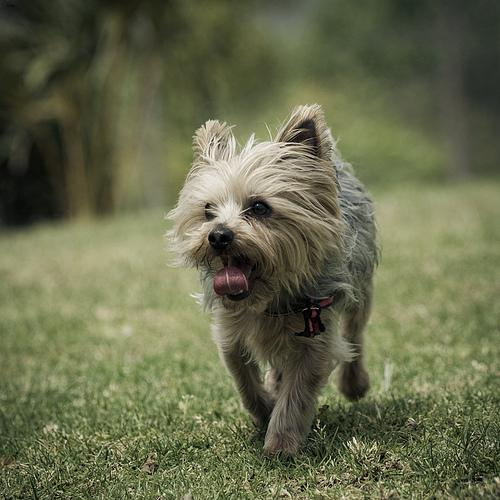dog-yorkshire_terrier: (183, 103, 318, 304)
